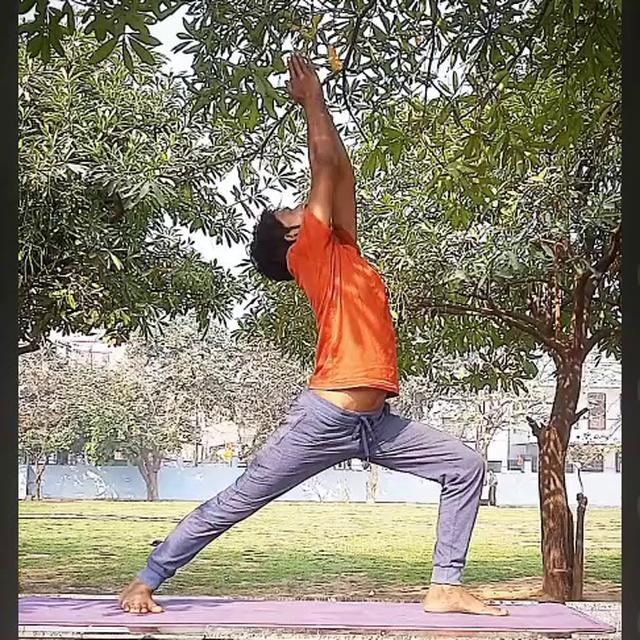Warrior_I: (110, 50, 516, 624)
